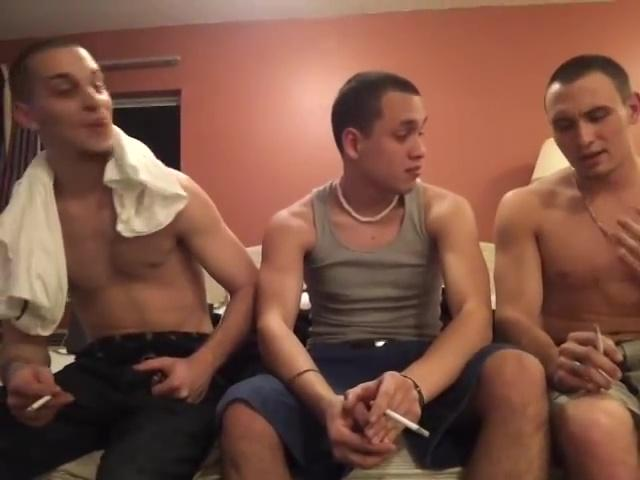cigarette: (386, 407, 435, 438), (25, 386, 61, 415), (594, 320, 608, 355)
